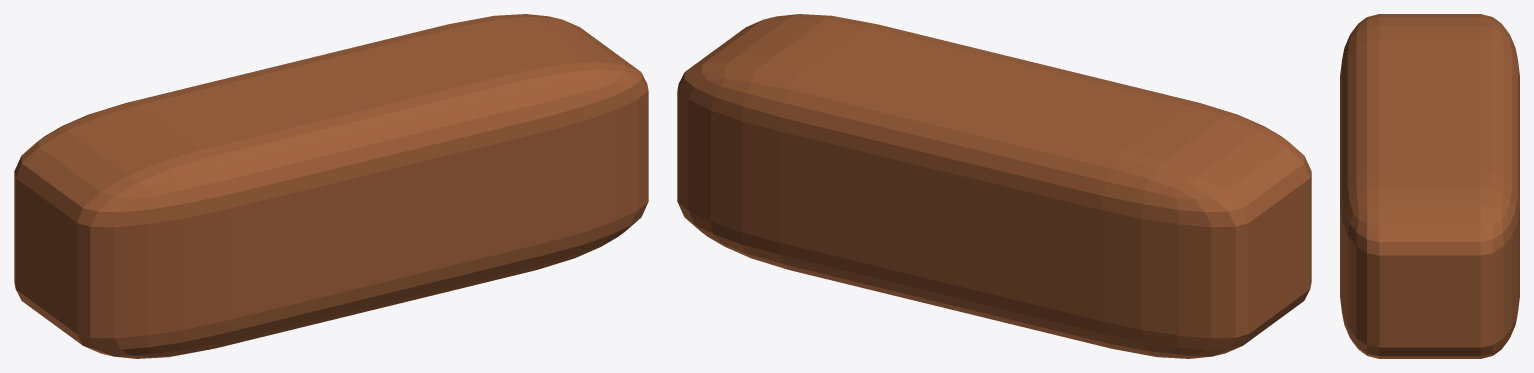
The picture shows the model from 3 angles, left to right: view 1: azimuth 30°, elevation 25°; view 2: azimuth 150°, elevation 25°; view 3: azimuth 270°, elevation 25°; orthographic projection. The views are drawn at different scales.
Visible parts, largest first — view 1: Cube; view 2: Cube; view 3: Cube.
Part boxes in pixels (x1=…): Cube: x1=14, y1=14, x2=648, y2=358; Cube: x1=677, y1=14, x2=1311, y2=358; Cube: x1=1340, y1=14, x2=1519, y2=358.
Bounding box in the file's own units: 1027 × 339 × 339.
